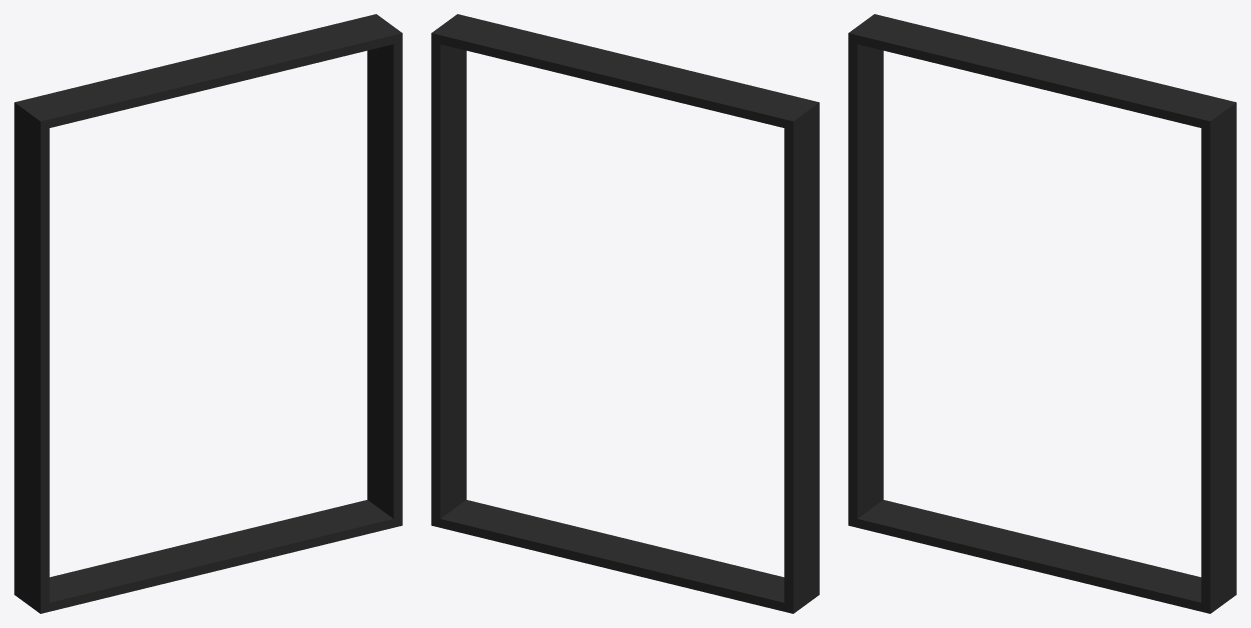
File: window_big.fbx
3 views of the same model, side by side, from view 1: azimuth 30°, elevation 25°; view 2: azimuth 150°, elevation 25°; view 3: azimuth 330°, elevation 25° (orthographic).
Visible parts, largest first — view 1: window_big; view 2: window_big; view 3: window_big.
Boxes of the visible parts, x1,y1,x2,y2 form: window_big: (14,14,402,613); window_big: (431,14,819,613); window_big: (848,14,1236,613).
Size of the model in its own units: 200 by 260 by 25.
